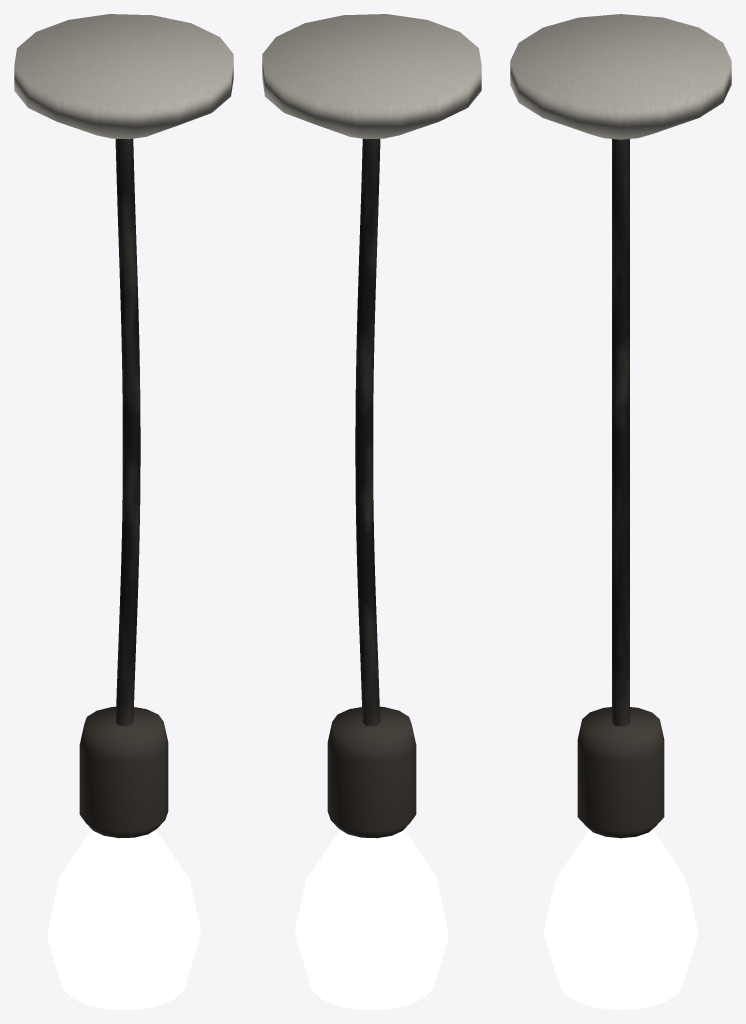
Rendered from dom_lampa_zarowka.glb.
3 renders of one model, left to right at view 1: azimuth 30°, elevation 25°; view 2: azimuth 150°, elevation 25°; view 3: azimuth 270°, elevation 25°, orthographic.
Parts seen in each view (by area): view 1: Lampa, Swiatlo; view 2: Lampa, Swiatlo; view 3: Lampa, Swiatlo.
Part boxes in pixels (x1=…): Lampa: x1=14, y1=14, x2=233, y2=838; Swiatlo: x1=47, y1=830, x2=200, y2=1009; Lampa: x1=262, y1=14, x2=481, y2=838; Swiatlo: x1=295, y1=830, x2=448, y2=1009; Lampa: x1=510, y1=14, x2=731, y2=838; Swiatlo: x1=543, y1=829, x2=698, y2=1009.
Bounding box in the file's own units: 0.1 × 0.468 × 0.1.
2 materials, 1 textured.
